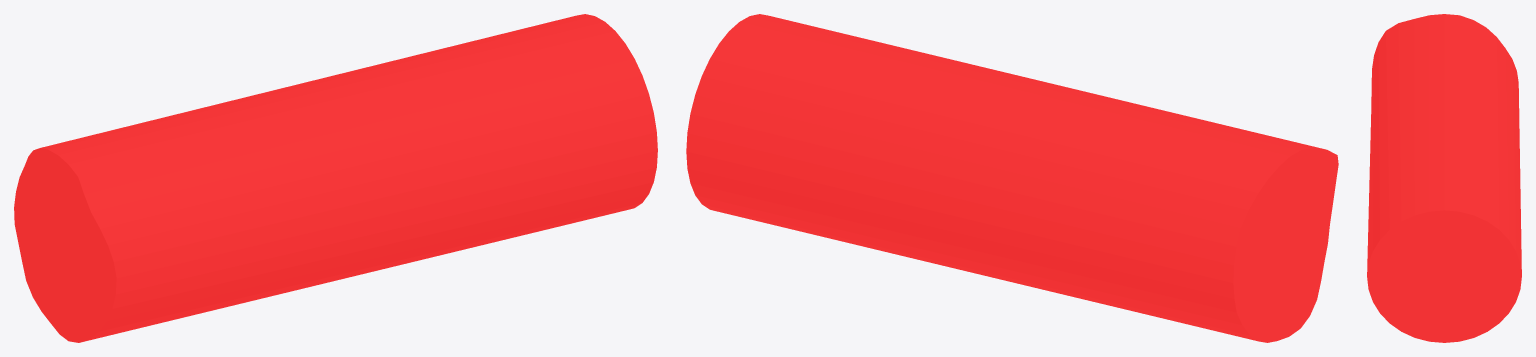
The model's file is boost.glb.
The picture shows the model from 3 angles, left to right: view 1: azimuth 30°, elevation 25°; view 2: azimuth 150°, elevation 25°; view 3: azimuth 270°, elevation 25°; orthographic projection. The views are drawn at different scales.
Visible parts, largest first — view 1: Cylinder; view 2: Cylinder; view 3: Cylinder.
Part boxes in pixels (x1,y1,x2,y2): Cylinder: (14, 14, 657, 342); Cylinder: (686, 14, 1338, 342); Cylinder: (1367, 14, 1521, 342).
Bounding box in the file's own units: 1.09 × 0.34 × 0.36.
